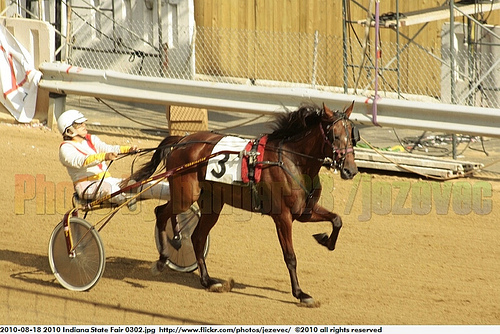horse: (119, 98, 364, 311)
